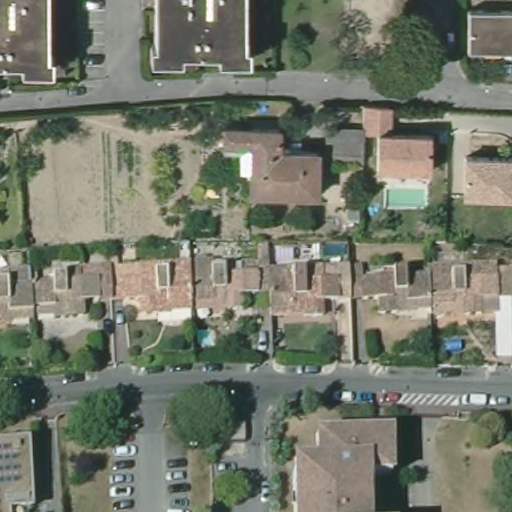pool: (380, 182, 433, 211)
